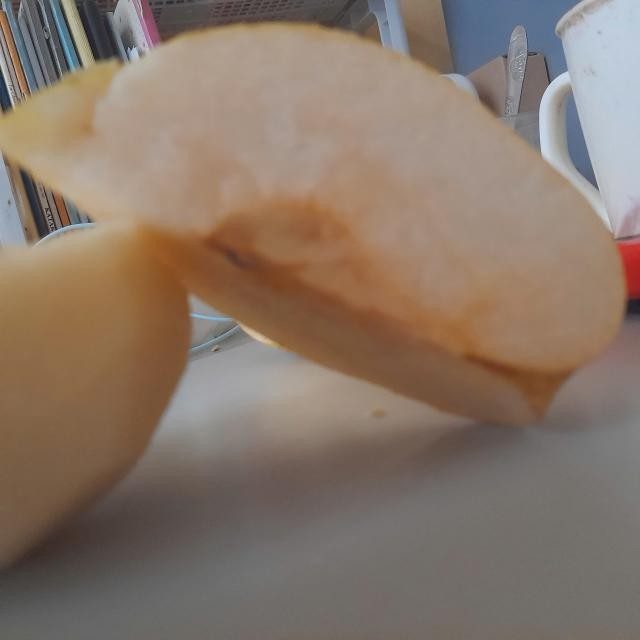Le: (1, 12, 630, 574)
